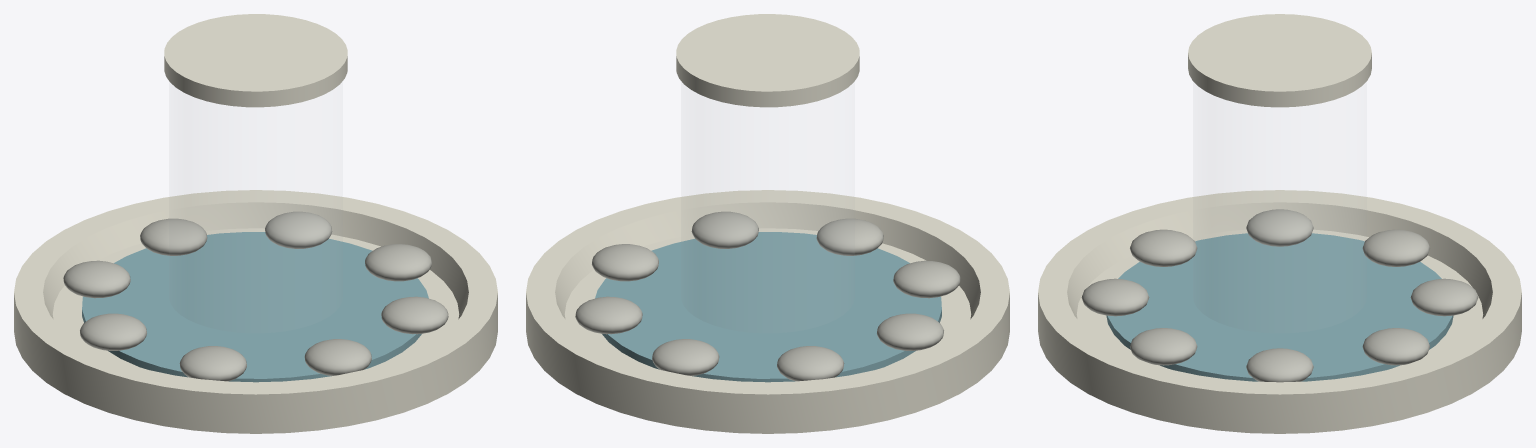
The model's file is beekeeping-and-honey-farm-water-feeder-9da9adb9__30725.glb.
3 renders of one model, left to right at view 1: azimuth 30°, elevation 25°; view 2: azimuth 150°, elevation 25°; view 3: azimuth 270°, elevation 25°, orthographic.
Parts seen in each view (by area): view 1: water-feeder; view 2: water-feeder; view 3: water-feeder.
Boxes of the visible parts, x1,y1,x2,y2 form: water-feeder: [14, 14, 497, 433]; water-feeder: [526, 14, 1009, 433]; water-feeder: [1038, 14, 1521, 433].
Size of the model in its own units: 0.5 by 0.318 by 0.5.
